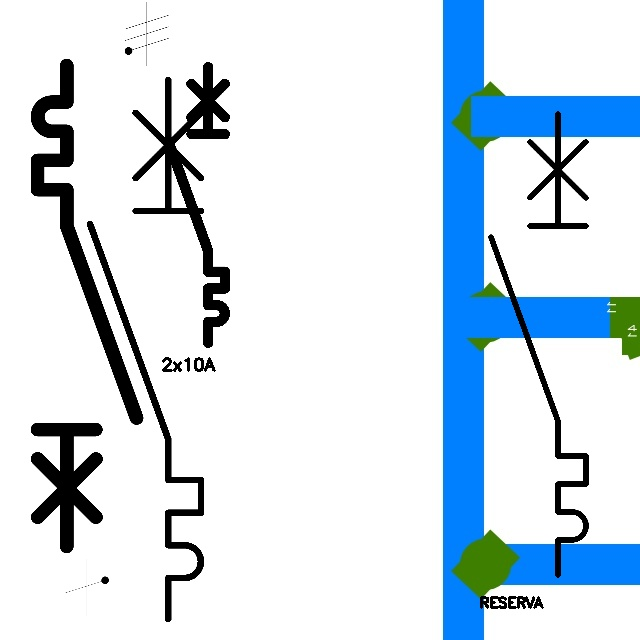interruptor_termomagnetico: (76, 66, 215, 632), (25, 53, 149, 559), (479, 102, 598, 587), (161, 60, 232, 350)
